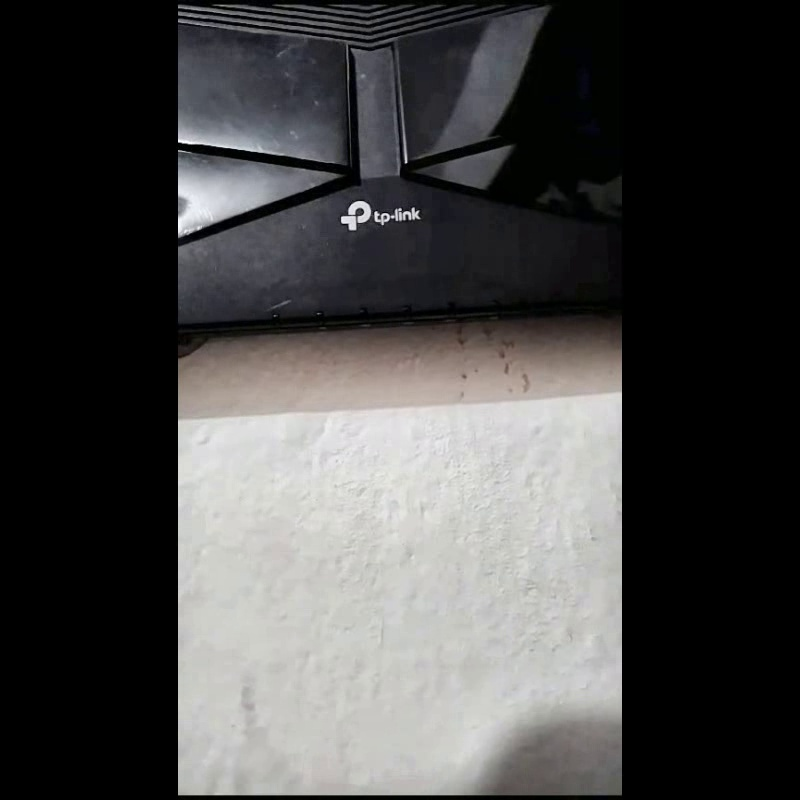off: (270, 309, 280, 329), (314, 308, 324, 326), (491, 299, 500, 317), (359, 305, 368, 322), (402, 304, 411, 321), (446, 301, 455, 316)
